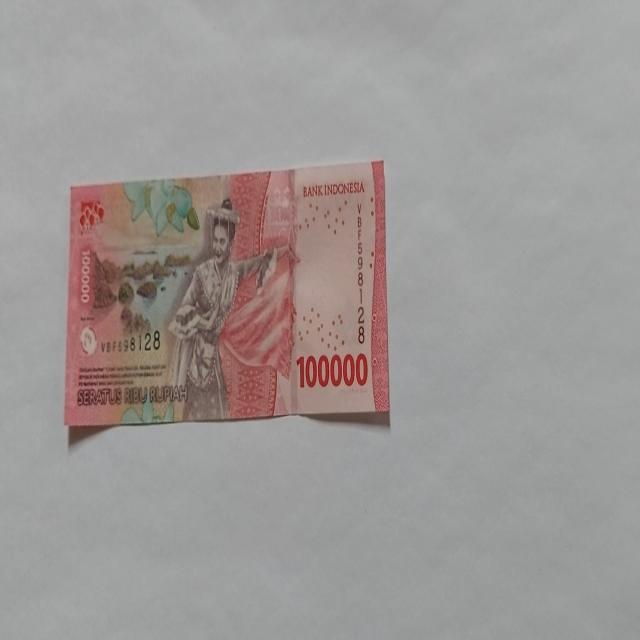seratus ribu rupiah: (63, 159, 390, 429), (166, 198, 279, 420)
